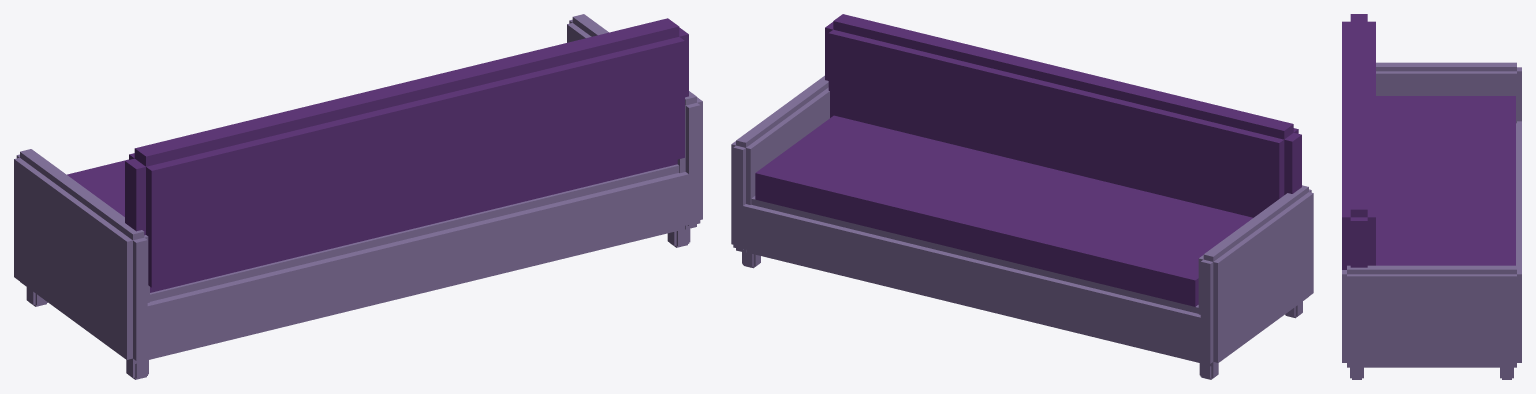
Rendered from ebonwood_sofa_v0.glb.
3 renders of one model, left to right at view 1: azimuth 30°, elevation 25°; view 2: azimuth 150°, elevation 25°; view 3: azimuth 270°, elevation 25°, orthographic. The views are drawn at different scales.
Visible parts, largest first — view 1: ebonwood_sofa_v0; view 2: ebonwood_sofa_v0; view 3: ebonwood_sofa_v0.
Boxes of the visible parts, x1=… form: ebonwood_sofa_v0: x1=14, y1=14, x2=702, y2=379; ebonwood_sofa_v0: x1=731, y1=14, x2=1313, y2=379; ebonwood_sofa_v0: x1=1342, y1=14, x2=1521, y2=379.
Bounding box in the file's own units: 2.5 × 0.92 × 0.9.
